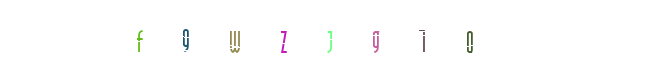7: (322, 0, 402, 80)
9: (199, 0, 279, 80)
F: (99, 0, 179, 80)
G: (293, 0, 373, 80)
J: (285, 0, 365, 80)
Q: (326, 0, 406, 80)
W: (243, 0, 323, 80)
Z: (272, 0, 352, 80)
